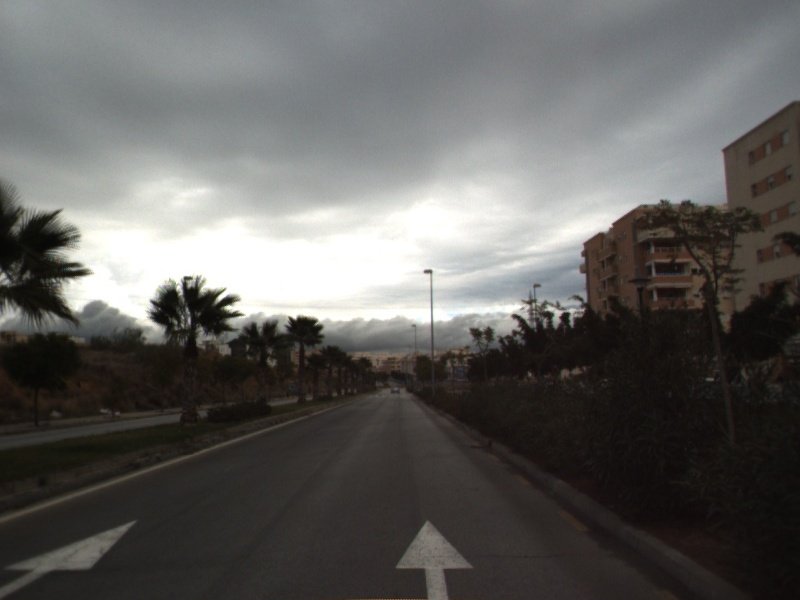STRAIGHT: (1, 517, 141, 600), (392, 517, 476, 600)
